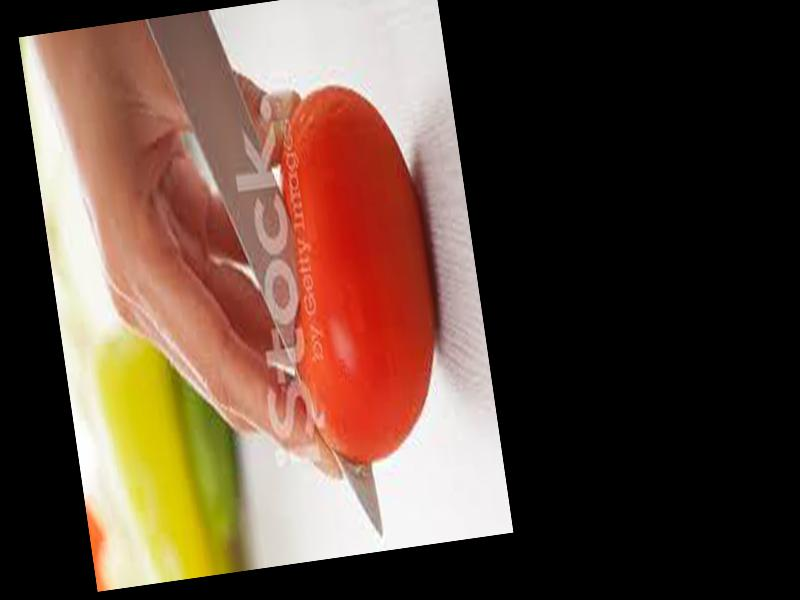Tomato: (259, 71, 458, 471)
